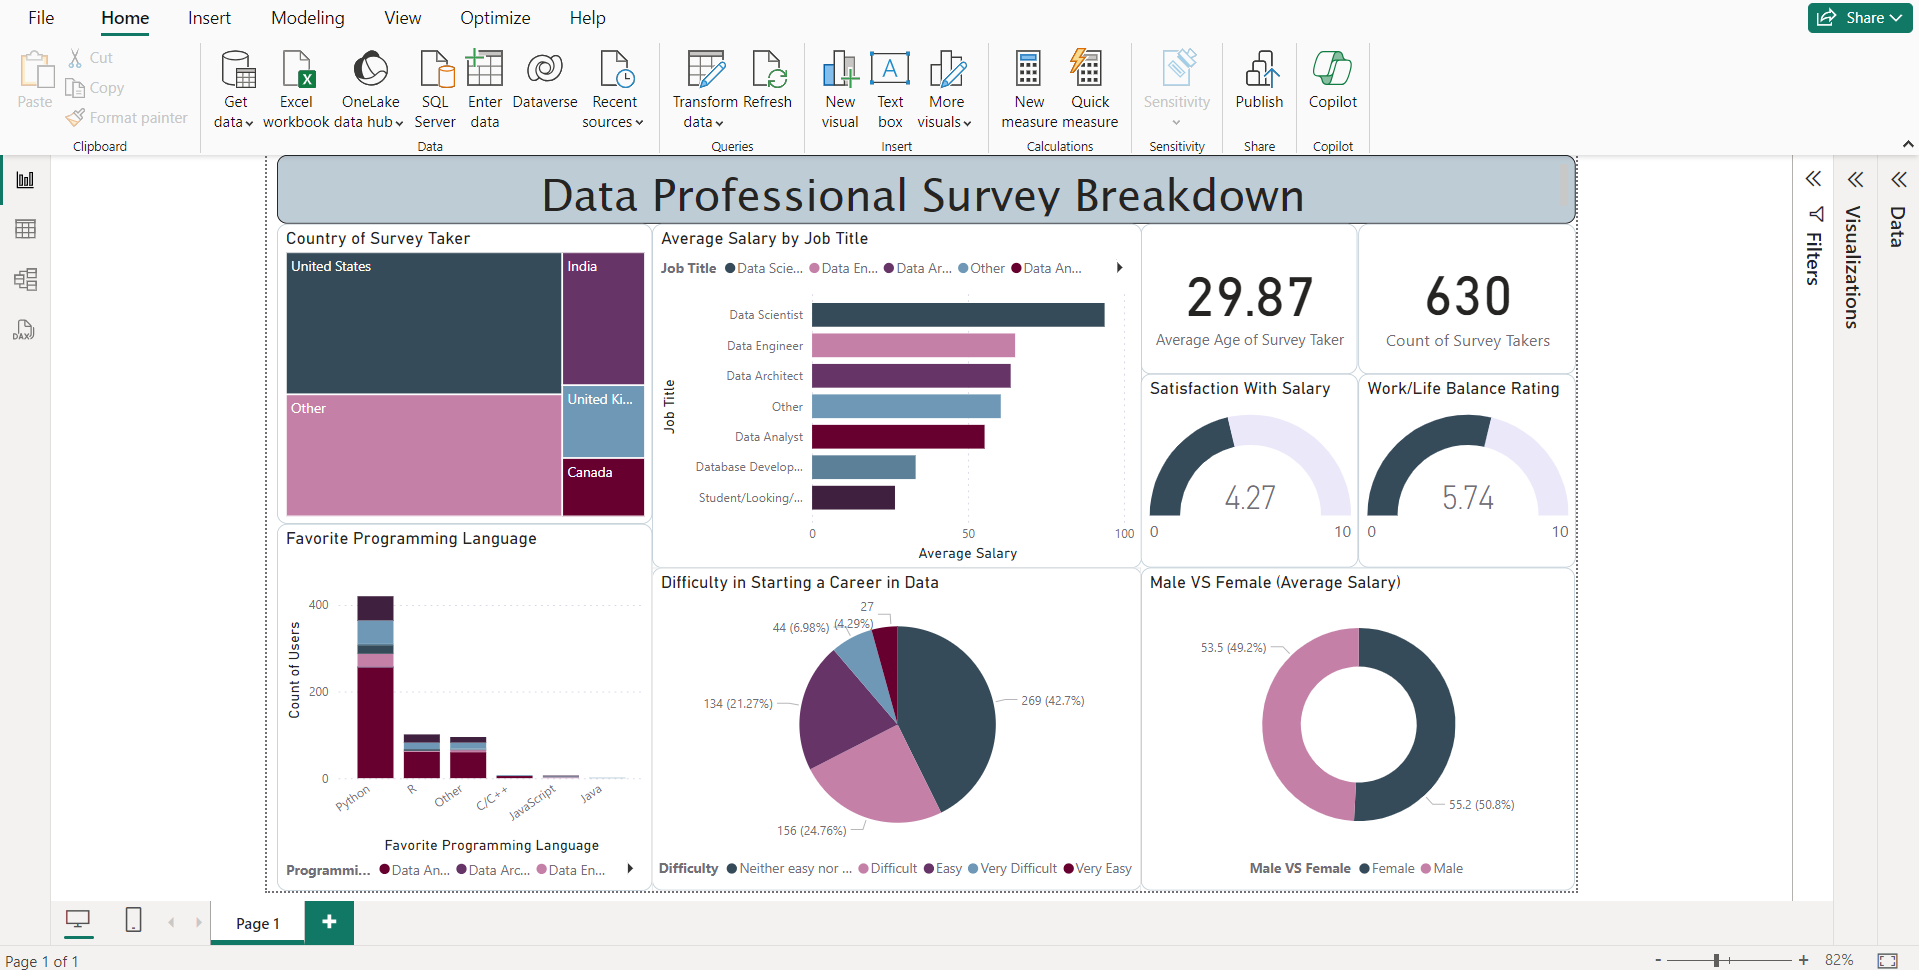

Layout of this report page (visuals, bound fields, positions):
{"tool":"powerbi","page":{"name":"Page 1","canvas":[1280,720],"ordinal":0},"visuals":[{"type":"textbox","box":[9.6,0,1270.7,67.2],"z":0},{"type":"card","fields":{"Values":["CountNonNull(Data Professional Survey.Unique ID)"]},"box":[1067.1,67.1,213.2,147.4],"z":1000},{"type":"card","fields":{"Values":["Avg(Data Professional Survey.Q10 - Current Age)"]},"box":[855.3,67.1,211.8,147.4],"z":2000},{"type":"barChart","title":"Average Salary by Job Title","fields":{"Category":["Data Professional Survey.Q1 - Which Title Best Fits your Current Role?.1"],"Y":["Avg(Data Professional Survey.Average_Salary)"],"Series":["Data Professional Survey.Q1 - Which Title Best Fits your Current Role?.1"]},"box":[376.3,67.1,478.9,336.8],"z":3000},{"type":"columnChart","title":"Favorite Programming Language","fields":{"Category":["Data Professional Survey.Q5 - Favorite Programming Language.1"],"Y":["CountNonNull(Data Professional Survey.Unique ID)"],"Series":["Data Professional Survey.Q1 - Which Title Best Fits your Current Role?.1"]},"box":[9.2,360.5,367.1,359.2],"z":4000},{"type":"treemap","title":"Country of Survey Taker","fields":{"Group":["Data Professional Survey.Q11 - Which Country do you live in?.1"],"Values":["CountNonNull(Data Professional Survey.Q11 - Which Country do you live in?.1)"]},"box":[9.2,67.1,367.1,293.4],"z":5000},{"type":"gauge","title":"Work/Life Balance Rating","fields":{"Y":["Avg(Data Professional Survey.Q6 - How Happy are you in your Current Position with the following? (Work/Life Balance))"],"MinValue":["Min(Data Professional Survey.Q6 - How Happy are you in your Current Position with the following? (Work/Life Balance))"],"MaxValue":["Max(Data Professional Survey.Q6 - How Happy are you in your Current Position with the following? (Work/Life Balance))1"]},"box":[1067.1,214.5,213.2,189.5],"z":6000},{"type":"gauge","title":"Satisfaction With Salary","fields":{"Y":["Avg(Data Professional Survey.Q6 - How Happy are you in your Current Position with the following? (Salary))"],"MinValue":["Min(Data Professional Survey.Q6 - How Happy are you in your Current Position with the following? (Salary))"],"MaxValue":["Max(Data Professional Survey.Q6 - How Happy are you in your Current Position with the following? (Salary))1"]},"box":[855.3,214.5,213.2,189.5],"z":7000},{"type":"donutChart","title":"Male VS Female (Average Salary)","fields":{"Category":["Data Professional Survey.Q9 - Male/Female?"],"Y":["Avg(Data Professional Survey.Average_Salary)"]},"box":[855.3,403.9,425,315.8],"z":8000},{"type":"pieChart","title":"Difficulty in Starting a Career in Data","fields":{"Category":["Data Professional Survey.Q7 - How difficult was it for you to break into Data?"],"Y":["CountNonNull(Data Professional Survey.Unique ID)"]},"box":[376.3,403.9,478.9,315.8],"z":9000}]}

Visuals, with their boxes on the page's 1280x720 design canvas (x1, y1, x2, y2). These are canvas units, not pixel positions in the 1919x970 screenshot, which may show the page scaled, cropped or inside an application window:
textbox: pyautogui.locateOnScreen(10, 0, 1280, 67)
card - CountNonNull(Data Professional Survey.Unique ID): pyautogui.locateOnScreen(1067, 67, 1280, 214)
card - Avg(Data Professional Survey.Q10 - Current Age): pyautogui.locateOnScreen(855, 67, 1067, 214)
"Average Salary by Job Title" barChart: pyautogui.locateOnScreen(376, 67, 855, 404)
"Favorite Programming Language" columnChart: pyautogui.locateOnScreen(9, 360, 376, 720)
"Country of Survey Taker" treemap: pyautogui.locateOnScreen(9, 67, 376, 360)
"Work/Life Balance Rating" gauge: pyautogui.locateOnScreen(1067, 214, 1280, 404)
"Satisfaction With Salary" gauge: pyautogui.locateOnScreen(855, 214, 1068, 404)
"Male VS Female (Average Salary)" donutChart: pyautogui.locateOnScreen(855, 404, 1280, 720)
"Difficulty in Starting a Career in Data" pieChart: pyautogui.locateOnScreen(376, 404, 855, 720)
